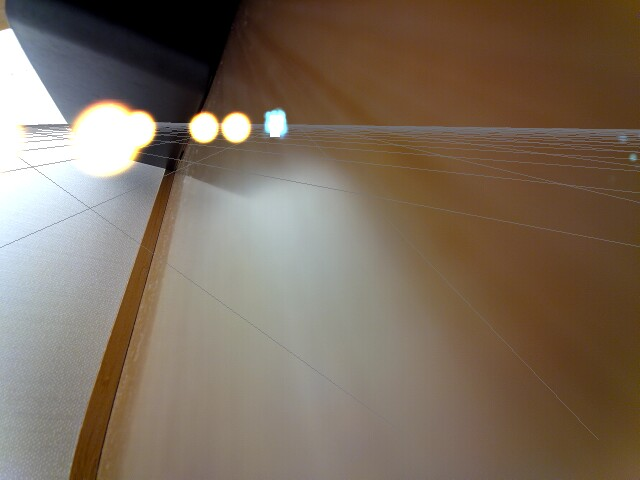fire: (66, 99, 146, 175), (218, 110, 254, 145), (2, 114, 27, 163), (191, 111, 218, 144)
